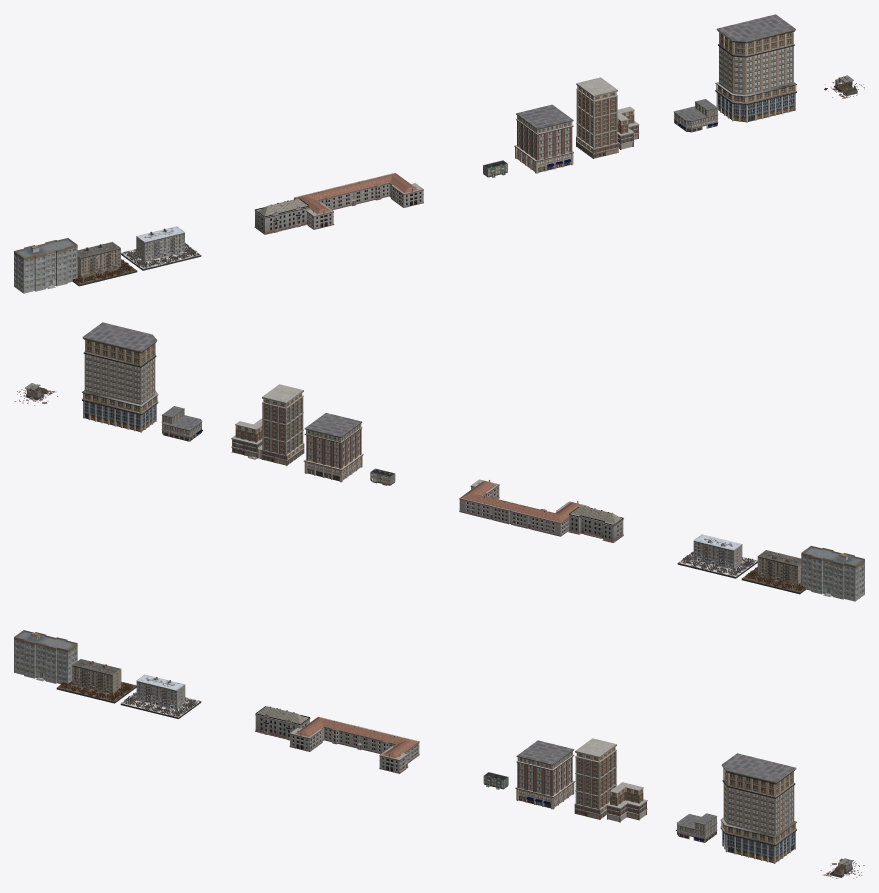
File: city.glb
The picture shows the model from 3 angles, top to bottom: view 1: azimuth 30°, elevation 25°; view 2: azimuth 150°, elevation 25°; view 3: azimuth 330°, elevation 25°; orthographic projection.
Visible parts, largest first — view 1: B_tower1__Body_1, B_office2__Body_1, B_office1__Body_1, B_panel9__Body_1, B_brick3__Body_1, B_brick3__Body_2, B_stalin__Body_1, B_panel5__Body_4, B_panel5__Body_3, B_shop1__Body_2, B_shop1__Body_1, B_panel5__Body_7; view 2: B_tower1__Body_1, B_office2__Body_1, B_office1__Body_1, B_panel9__Body_1, B_brick3__Body_1, B_brick3__Body_2, B_stalin__Body_1, B_panel5__Body_4, B_panel5__Body_3, B_shop1__Body_2, B_shop1__Body_1, B_panel5__Body_7; view 3: B_tower1__Body_1, B_office2__Body_1, B_office1__Body_1, B_panel9__Body_1, B_brick3__Body_1, B_brick3__Body_2, B_panel5__Body_3, B_panel5__Body_4, B_stalin__Body_1, B_panel5__Body_7, B_panel5__Body_8, B_shop1__Body_1 (+2 smaller).
Boxes of the visible parts, x1=… form: B_tower1__Body_1: x1=715, y1=14, x2=796, y2=122; B_office2__Body_1: x1=576, y1=77, x2=639, y2=158; B_office1__Body_1: x1=514, y1=104, x2=573, y2=173; B_panel9__Body_1: x1=14, y1=238, x2=77, y2=293; B_brick3__Body_1: x1=345, y1=173, x2=423, y2=207; B_brick3__Body_2: x1=294, y1=185, x2=353, y2=229; B_stalin__Body_1: x1=254, y1=198, x2=309, y2=234; B_panel5__Body_4: x1=136, y1=226, x2=184, y2=261; B_panel5__Body_3: x1=77, y1=242, x2=120, y2=276; B_shop1__Body_2: x1=673, y1=99, x2=718, y2=128; B_shop1__Body_1: x1=674, y1=102, x2=717, y2=132; B_panel5__Body_7: x1=121, y1=243, x2=200, y2=269; B_tower1__Body_1: x1=82, y1=322, x2=158, y2=432; B_office2__Body_1: x1=231, y1=384, x2=304, y2=465; B_office1__Body_1: x1=303, y1=413, x2=363, y2=482; B_panel9__Body_1: x1=801, y1=546, x2=864, y2=601; B_brick3__Body_1: x1=459, y1=479, x2=518, y2=524; B_brick3__Body_2: x1=509, y1=501, x2=589, y2=536; B_stalin__Body_1: x1=568, y1=505, x2=623, y2=542; B_panel5__Body_4: x1=693, y1=534, x2=742, y2=569; B_panel5__Body_3: x1=757, y1=550, x2=801, y2=585; B_shop1__Body_2: x1=161, y1=406, x2=202, y2=438; B_shop1__Body_1: x1=162, y1=409, x2=201, y2=441; B_panel5__Body_7: x1=678, y1=551, x2=757, y2=576; B_tower1__Body_1: x1=720, y1=753, x2=796, y2=863; B_office2__Body_1: x1=574, y1=738, x2=647, y2=822; B_office1__Body_1: x1=515, y1=740, x2=575, y2=809; B_panel9__Body_1: x1=14, y1=630, x2=77, y2=683; B_brick3__Body_1: x1=357, y1=729, x2=419, y2=773; B_brick3__Body_2: x1=289, y1=716, x2=367, y2=751; B_panel5__Body_3: x1=72, y1=659, x2=121, y2=693; B_panel5__Body_4: x1=136, y1=674, x2=185, y2=709; B_stalin__Body_1: x1=255, y1=706, x2=310, y2=740; B_panel5__Body_7: x1=121, y1=692, x2=200, y2=717; B_panel5__Body_8: x1=57, y1=680, x2=136, y2=701; B_shop1__Body_1: x1=677, y1=817, x2=716, y2=842.
Size of the model in its own units: 1766 by 162 by 88.55.
21 materials, 20 textured.
